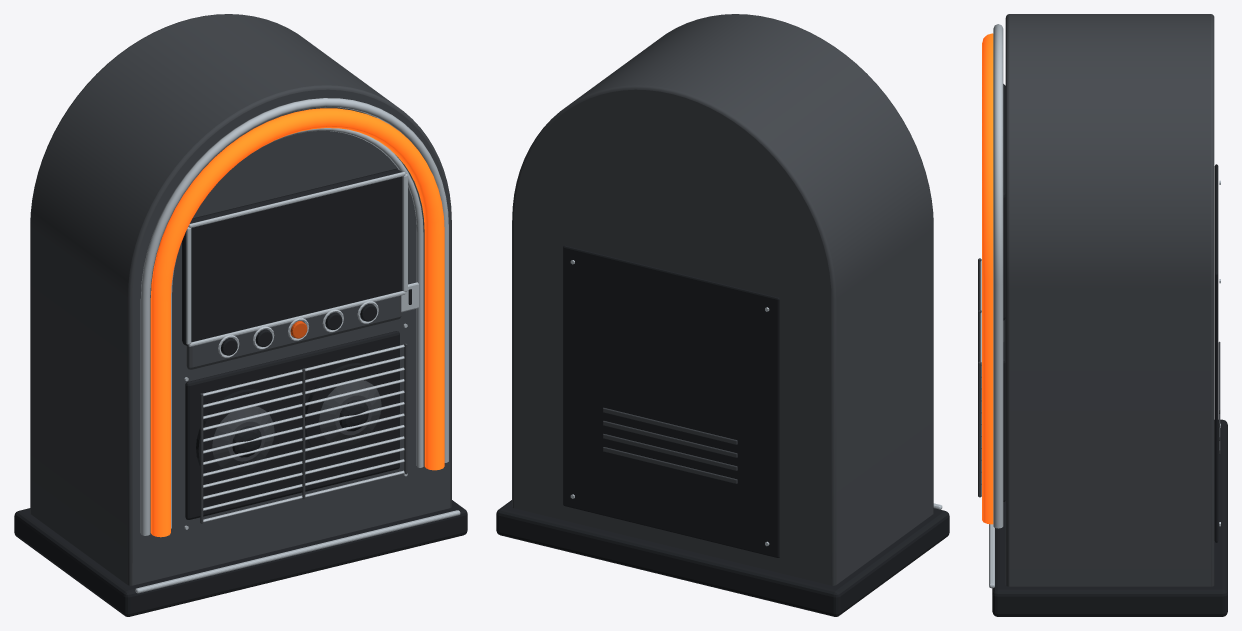
File: jukebox.glb
3 views of the same model, side by side, from view 1: azimuth 30°, elevation 25°; view 2: azimuth 150°, elevation 25°; view 3: azimuth 270°, elevation 25° (orthographic). The views are drawn at different scales.
Visible parts, largest first — view 1: JukeboxCabinet, JukeboxNeon; view 2: JukeboxCabinet; view 3: JukeboxCabinet, JukeboxNeon.
Boxes of the visible parts, bbox=[...] form: JukeboxCabinet: bbox=[14, 14, 467, 616]; JukeboxNeon: bbox=[150, 108, 444, 537]; JukeboxCabinet: bbox=[496, 14, 949, 616]; JukeboxCabinet: bbox=[978, 14, 1227, 616]; JukeboxNeon: bbox=[982, 33, 993, 524].
Size of the model in its own units: 1.38 by 1.85 by 0.838.
